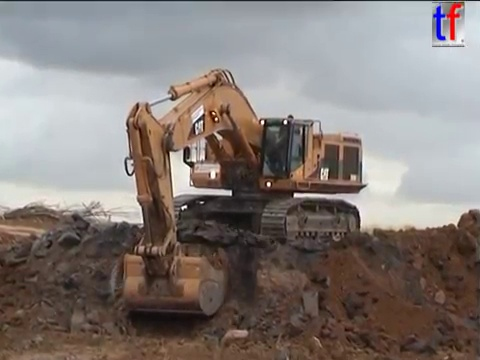excavator: (117, 65, 370, 321)
